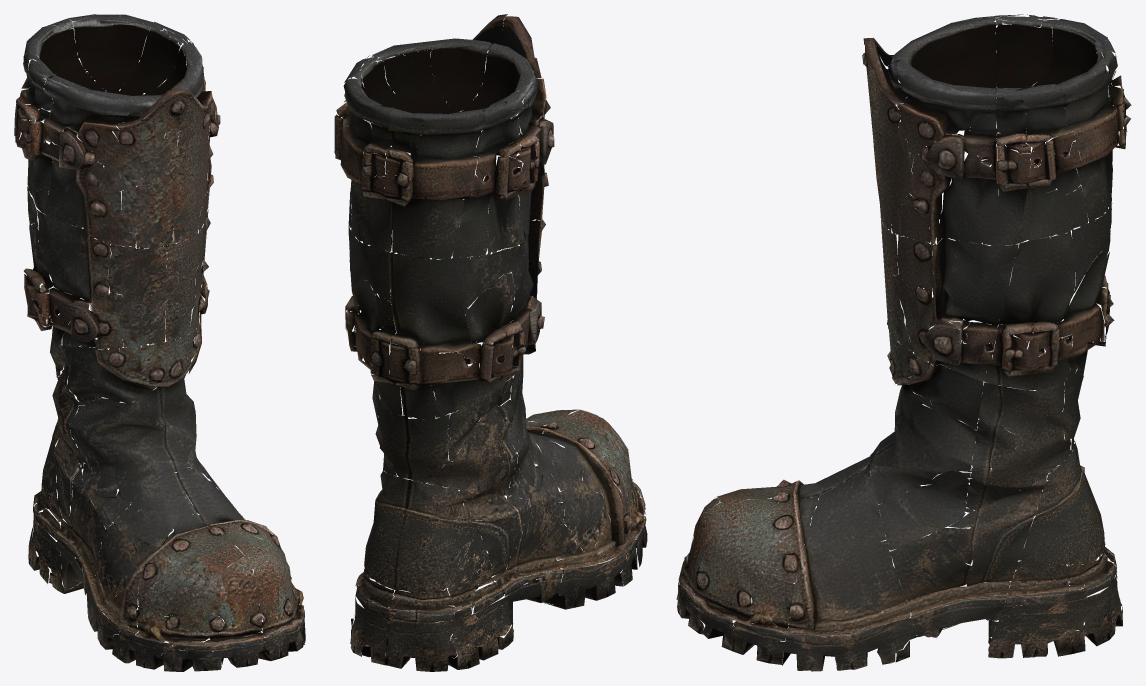
File: a_sluice_boots.glb
3 views of the same model, side by side, from view 1: azimuth 30°, elevation 25°; view 2: azimuth 150°, elevation 25°; view 3: azimuth 270°, elevation 25° (orthographic). The views are drawn at different scales.
Visible parts, largest first — view 1: tripo_node_892a7d13-8db3-4021-8cfb-fa8c4bf19114; view 2: tripo_node_892a7d13-8db3-4021-8cfb-fa8c4bf19114; view 3: tripo_node_892a7d13-8db3-4021-8cfb-fa8c4bf19114.
Part boxes in pixels (bbox=[...]): tripo_node_892a7d13-8db3-4021-8cfb-fa8c4bf19114: bbox=[14, 14, 305, 671]; tripo_node_892a7d13-8db3-4021-8cfb-fa8c4bf19114: bbox=[334, 14, 647, 671]; tripo_node_892a7d13-8db3-4021-8cfb-fa8c4bf19114: bbox=[676, 14, 1131, 671].
Bounding box in the file's own units: 0.1778 × 0.5 × 0.3504.
Materials: 1 (1 with a texture image).
